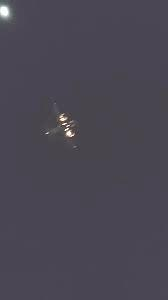Plane: (35, 94, 96, 172)
